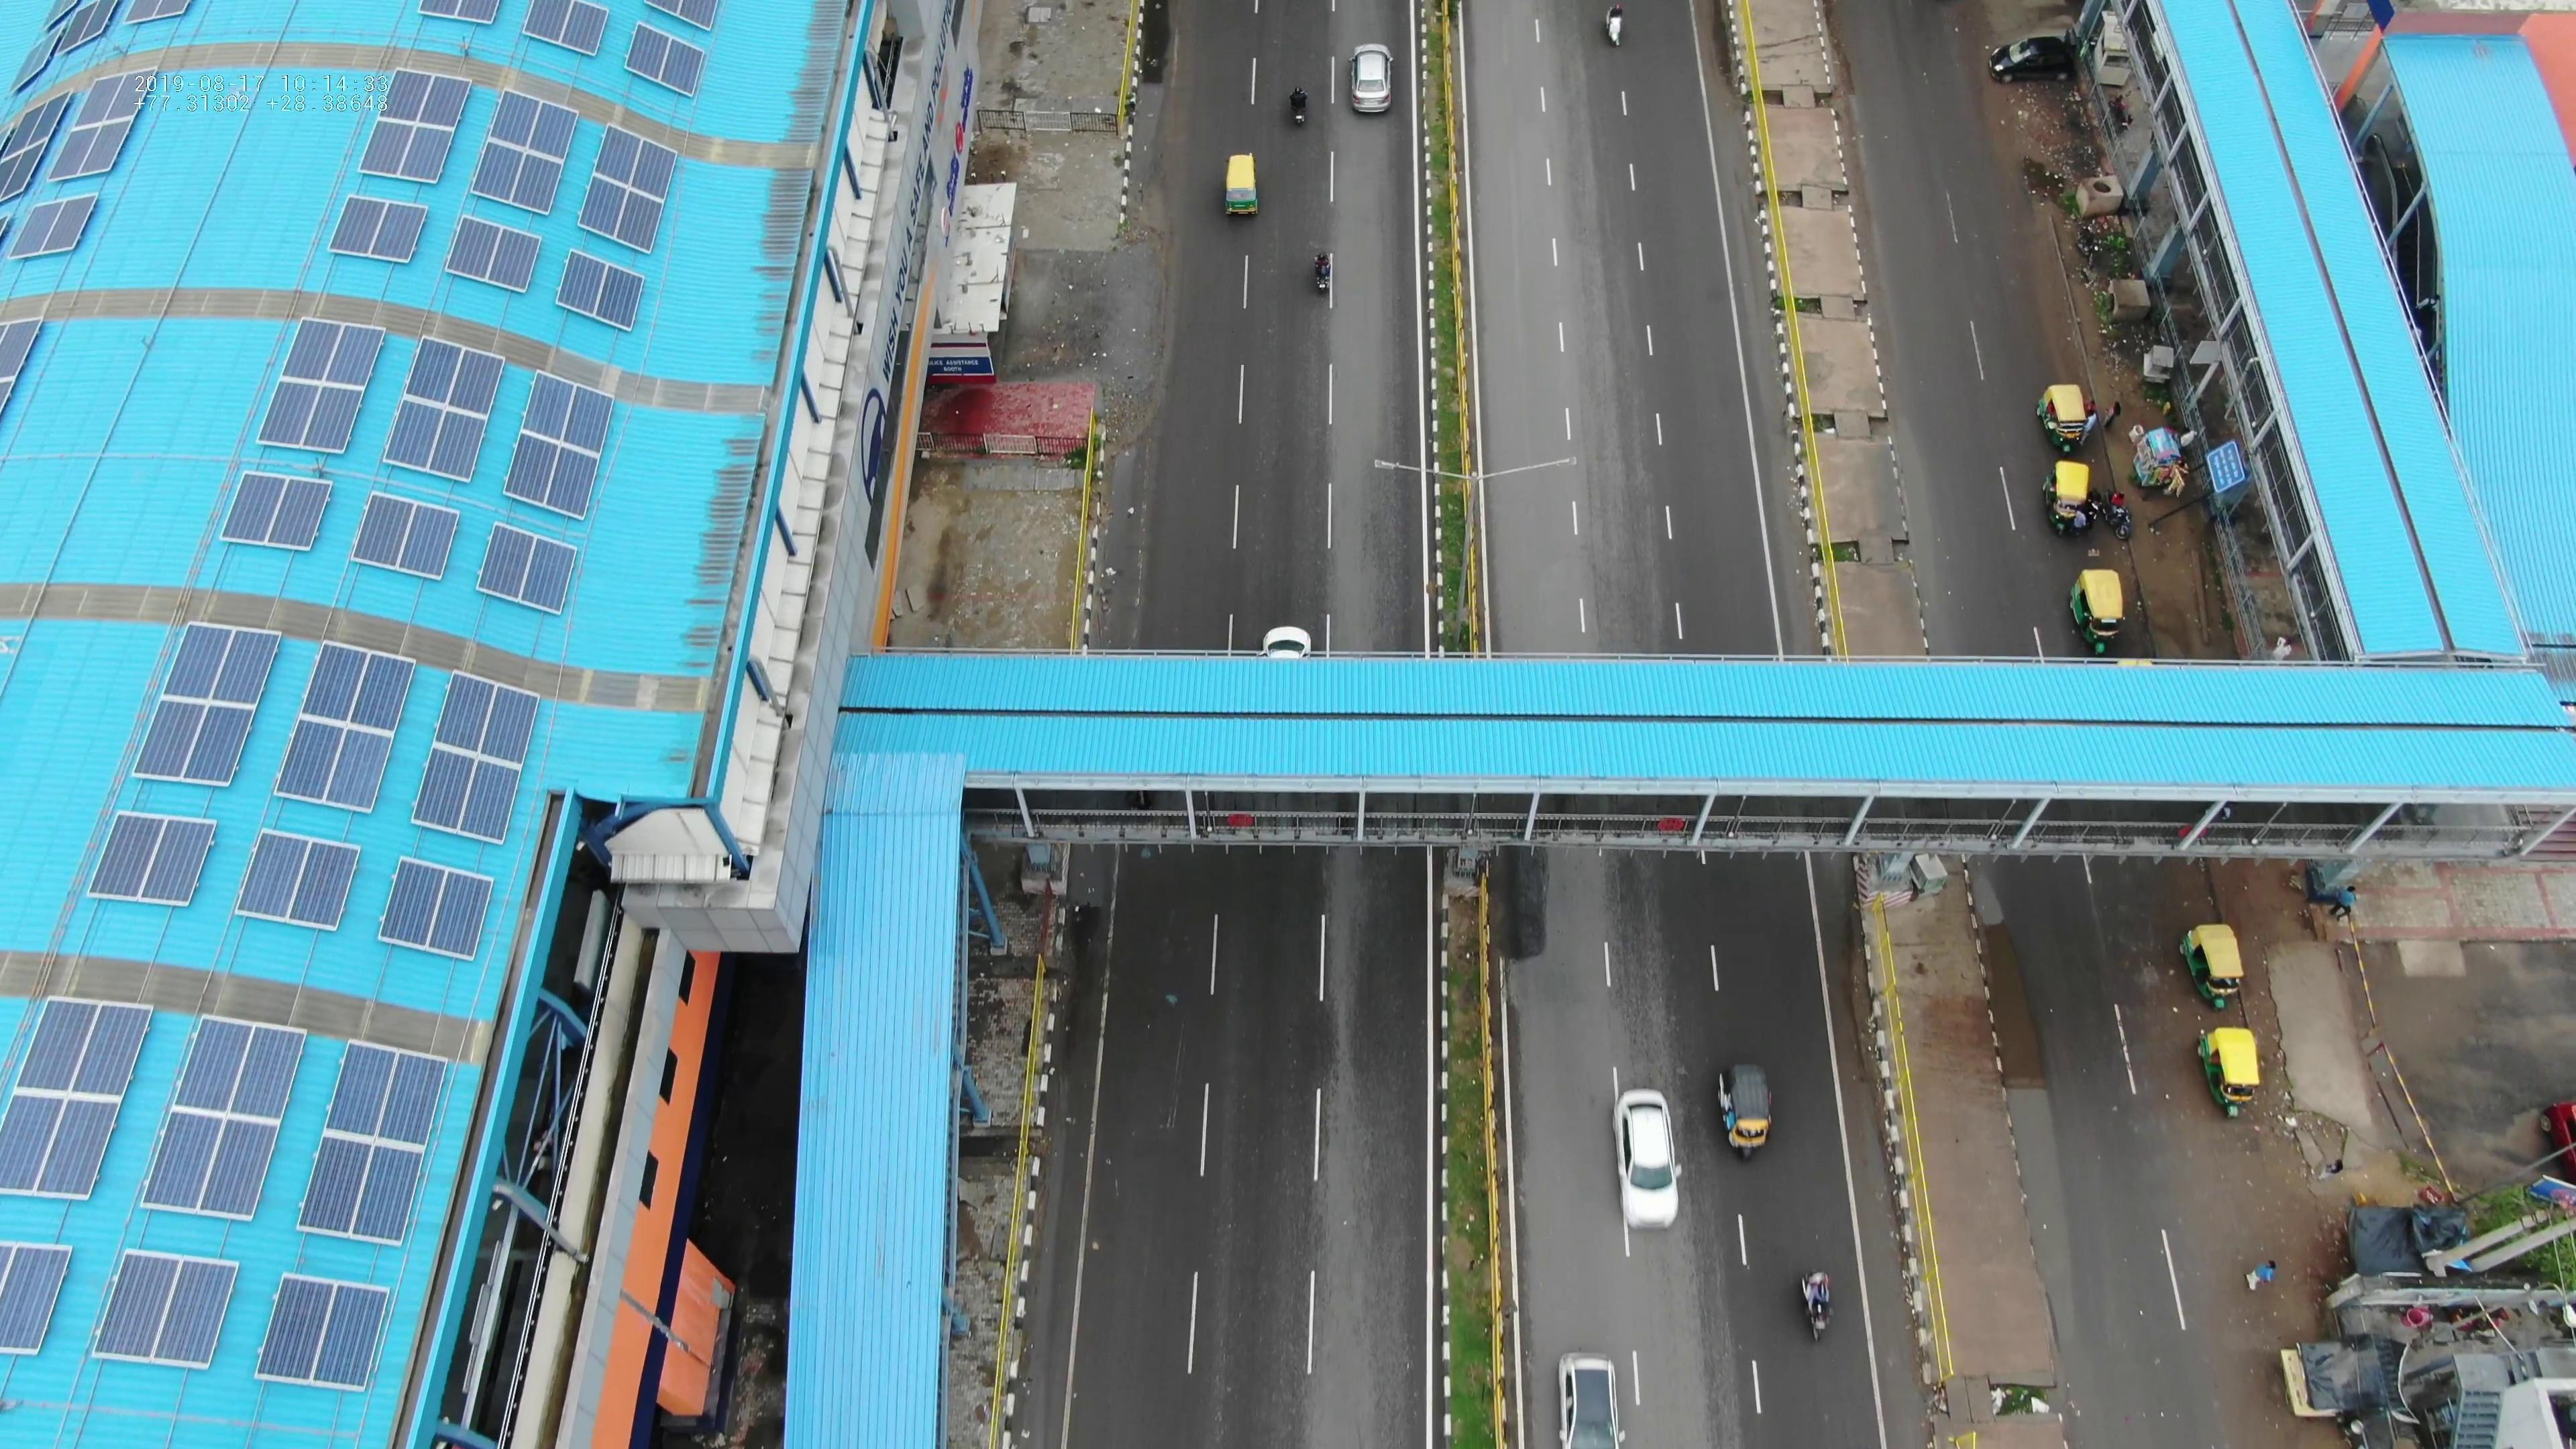Waterlogging: (1971, 892, 2082, 1329)
